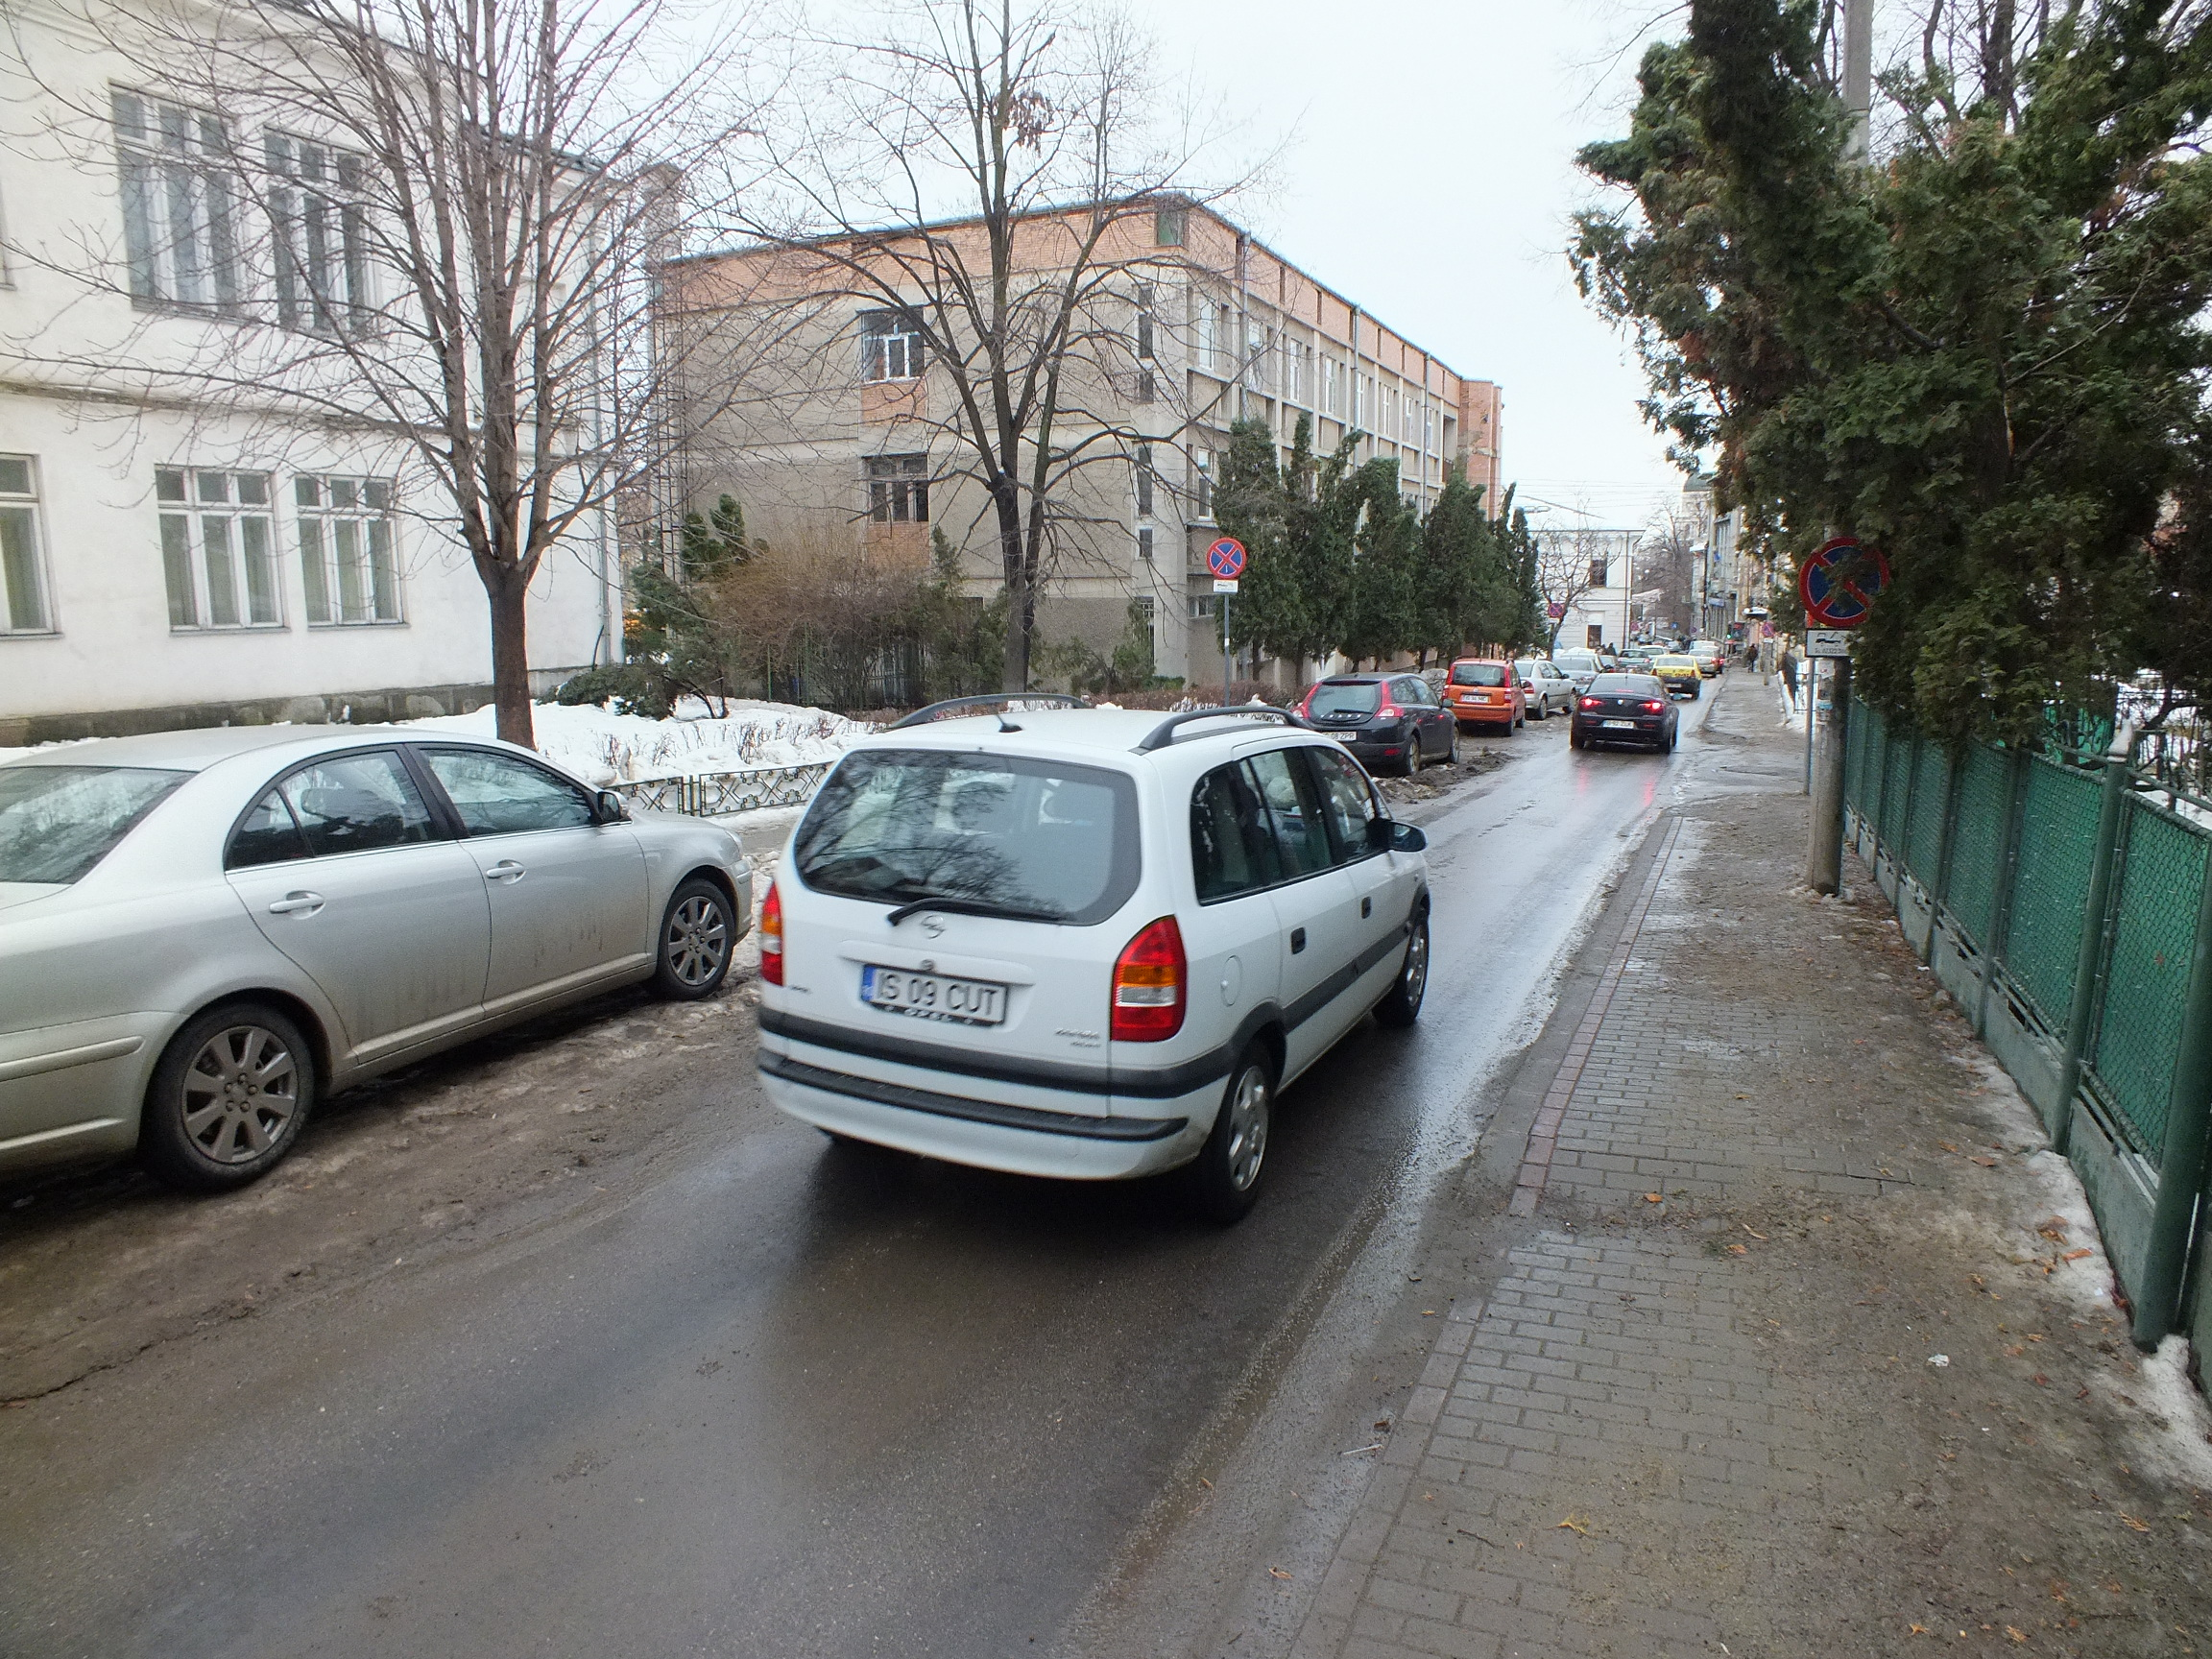IS09CUT: (858, 969, 1006, 1016)
